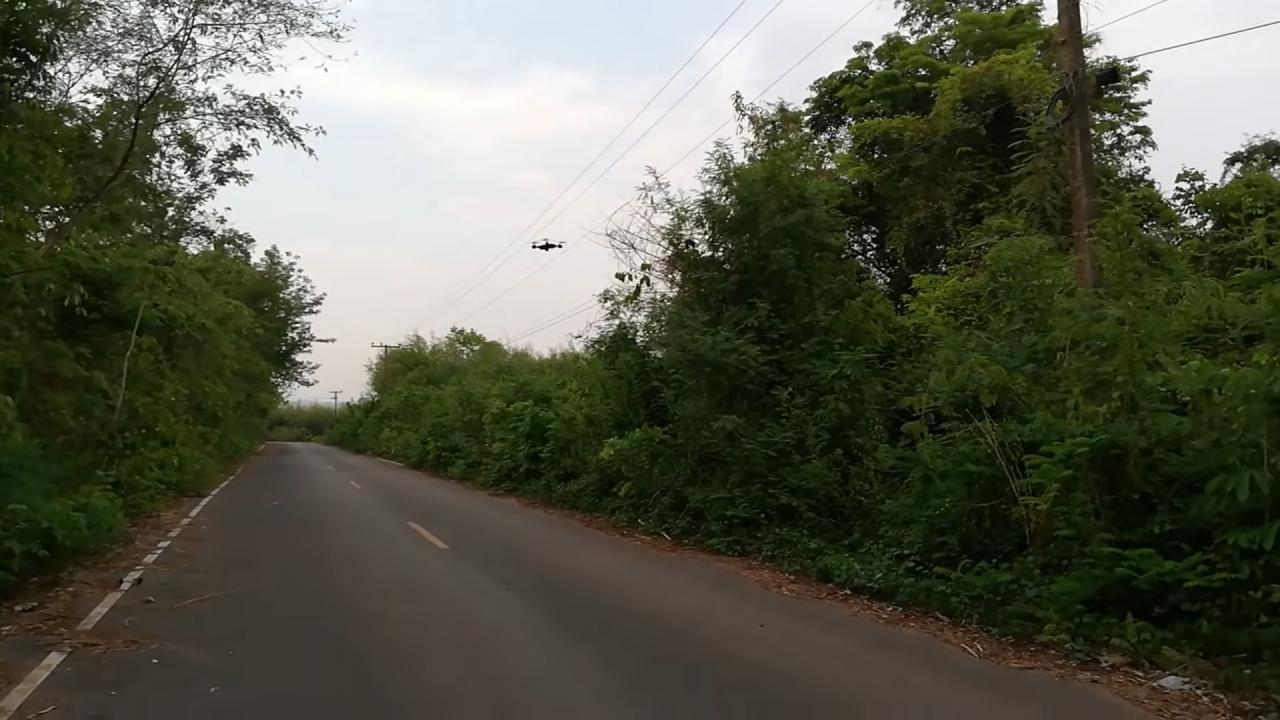Drone: (518, 230, 568, 258)
